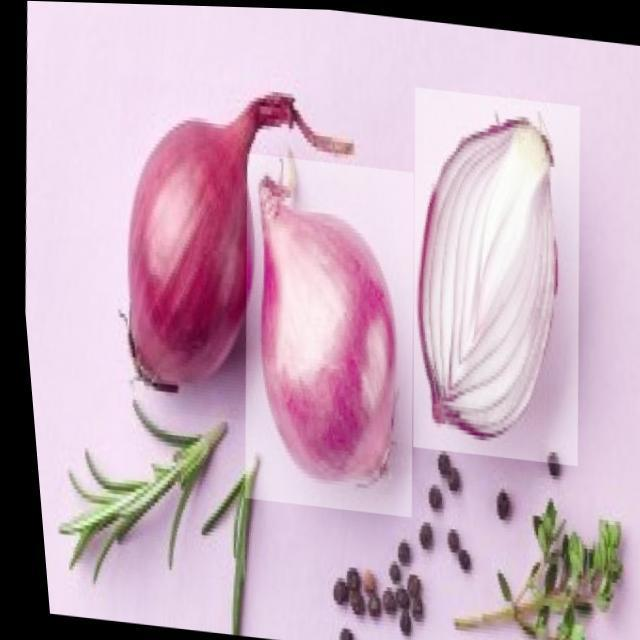Onion: (382, 84, 602, 463), (214, 150, 433, 516), (89, 71, 278, 422)
